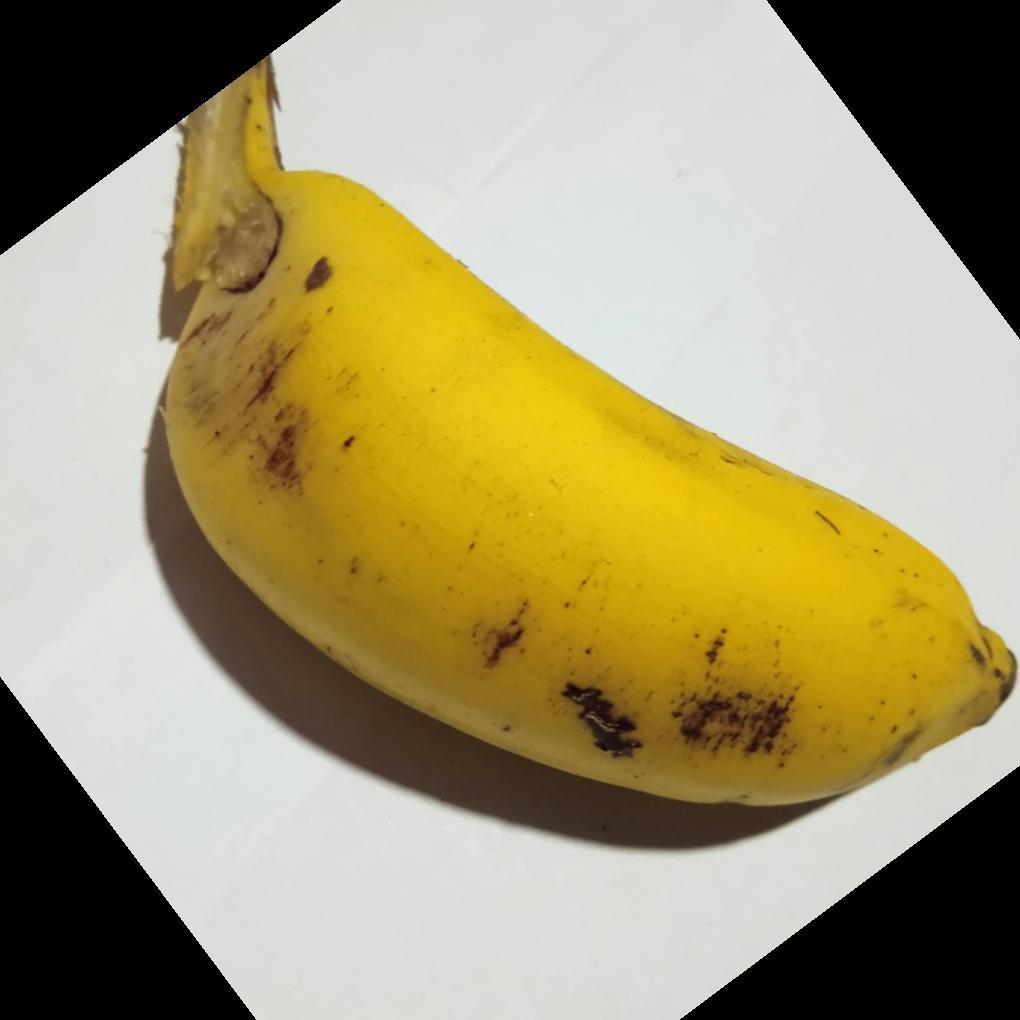Banana Ripe: (163, 62, 1020, 880)
